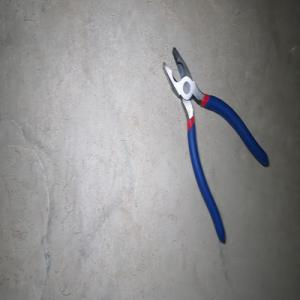Pliers: (162, 46, 270, 244)
